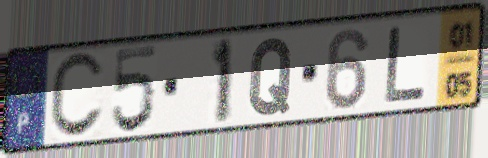1: (207, 35, 234, 128)
5: (109, 42, 159, 136)
6: (321, 26, 372, 113)
C: (46, 49, 107, 143)
L: (383, 24, 431, 106)
Q: (246, 35, 296, 119)
